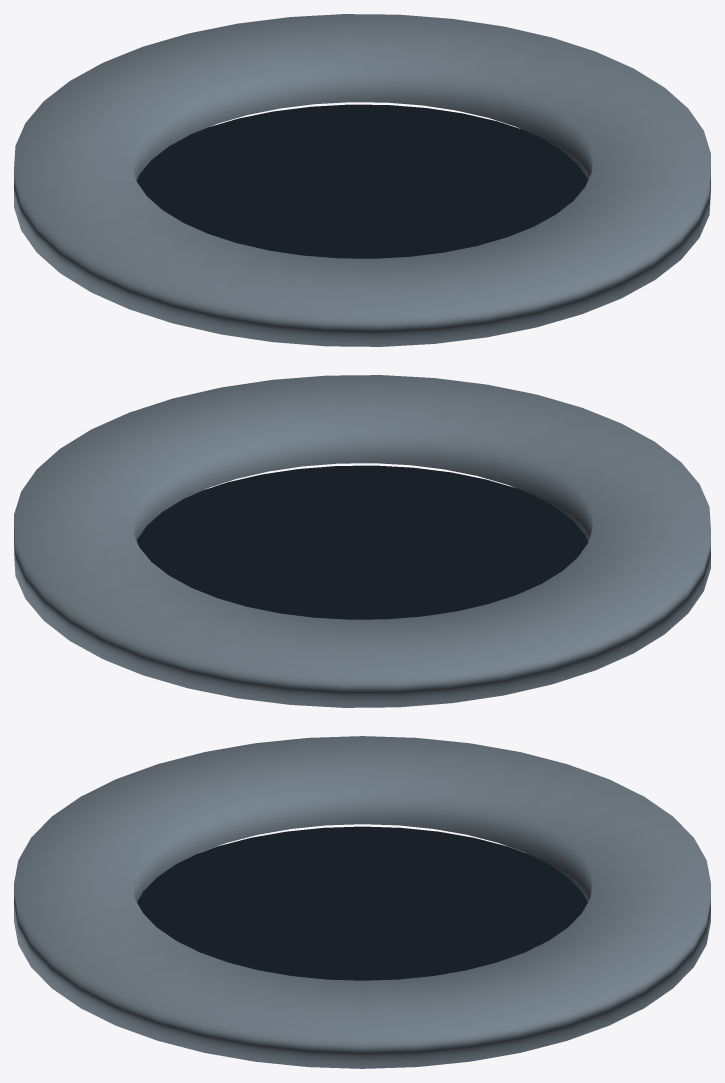
File: quest.axial_hatch_b.glb
3 renders of one model, top to bottom at view 1: azimuth 30°, elevation 25°; view 2: azimuth 150°, elevation 25°; view 3: azimuth 270°, elevation 25°, orthographic.
Visible parts, largest first — view 1: quest.axial_hatch_b.mesh_Machined_steel, quest.axial_hatch_b.mesh_Shadowed_interior; view 2: quest.axial_hatch_b.mesh_Machined_steel, quest.axial_hatch_b.mesh_Shadowed_interior; view 3: quest.axial_hatch_b.mesh_Machined_steel, quest.axial_hatch_b.mesh_Shadowed_interior.
Part boxes in pixels (x1,y1,x2,y2): quest.axial_hatch_b.mesh_Machined_steel: (14, 14, 710, 346); quest.axial_hatch_b.mesh_Shadowed_interior: (136, 104, 588, 258); quest.axial_hatch_b.mesh_Machined_steel: (14, 375, 710, 707); quest.axial_hatch_b.mesh_Shadowed_interior: (136, 465, 588, 619); quest.axial_hatch_b.mesh_Machined_steel: (14, 736, 710, 1068); quest.axial_hatch_b.mesh_Shadowed_interior: (137, 826, 587, 980).
Bounding box in the file's own units: 2.14 × 0.22 × 2.14.
